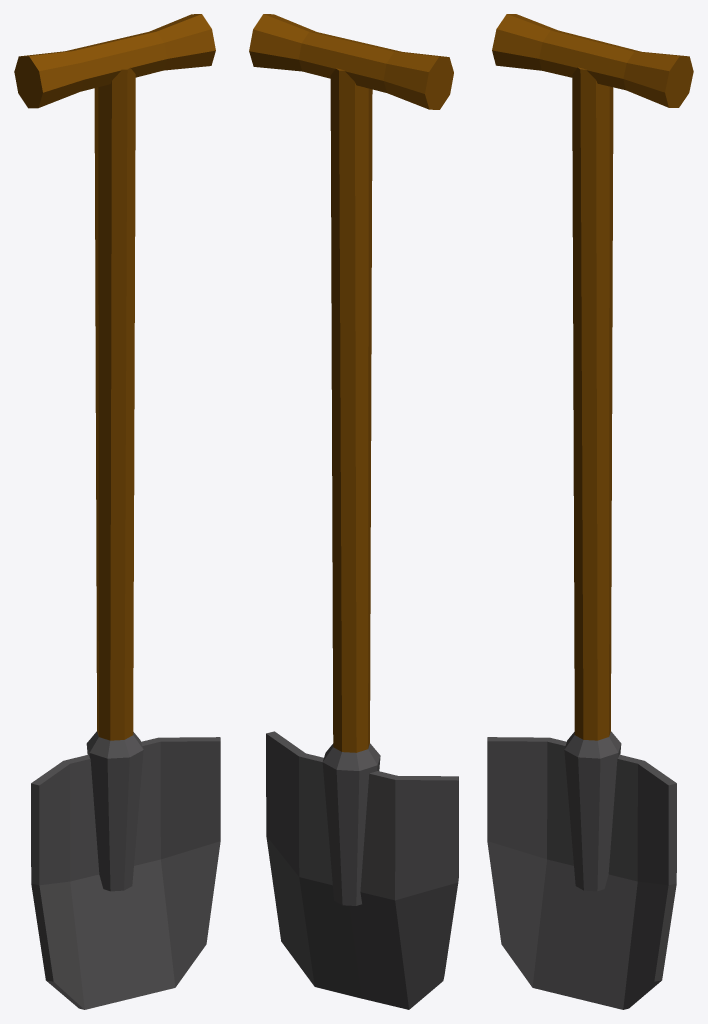
File: Adams skovl1.blend 0.2.fbx
3 renders of one model, left to right at view 1: azimuth 30°, elevation 25°; view 2: azimuth 150°, elevation 25°; view 3: azimuth 330°, elevation 25°, orthographic.
Parts seen in each view (by area): view 1: adams skovl; view 2: adams skovl; view 3: adams skovl.
Part boxes in pixels (<box>): adams skovl: <box>14,14,220,1009</box>; adams skovl: <box>249,14,458,1009</box>; adams skovl: <box>487,14,693,1009</box>.
Size of the model in its own units: 26.54 by 128 by 7.21.
